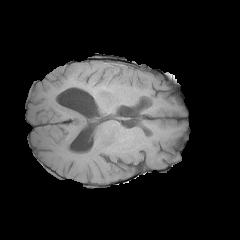glioma: (49, 63, 127, 102)
